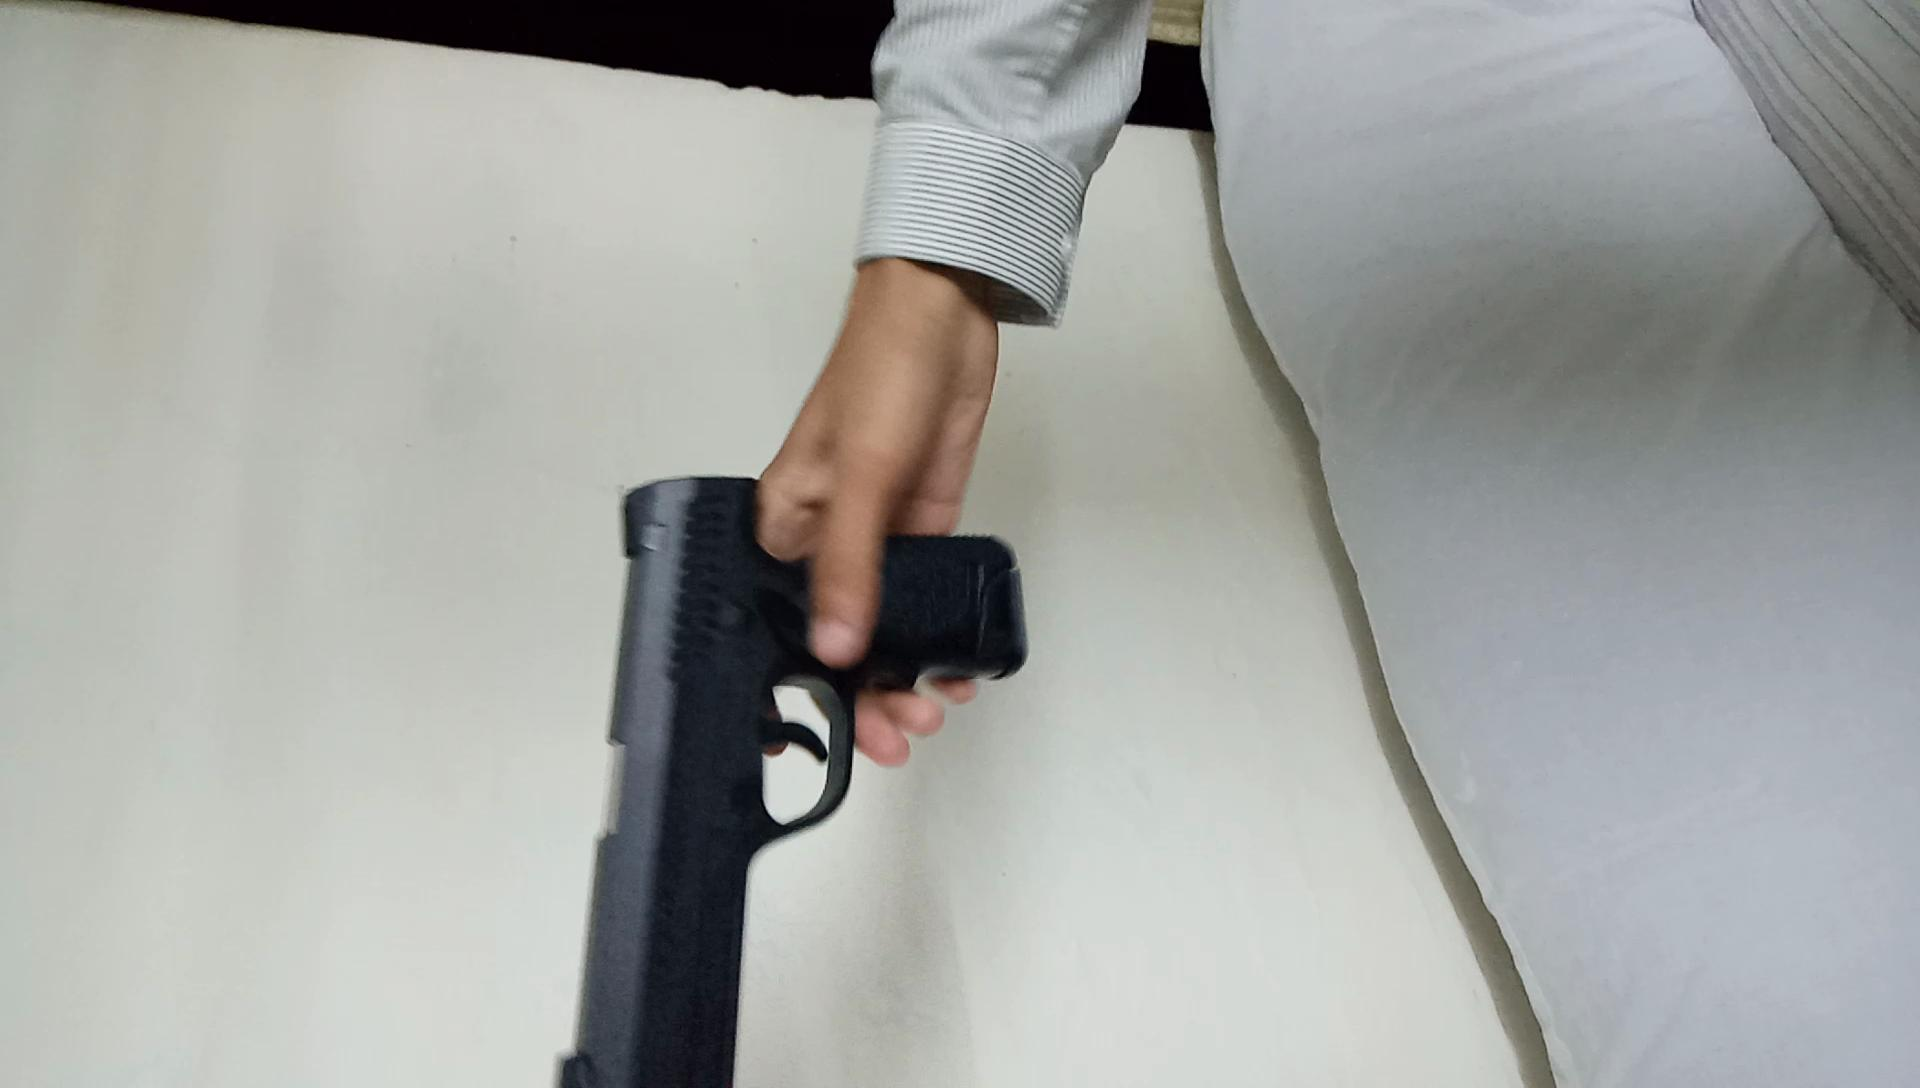weapon: (545, 462, 1043, 1088)
